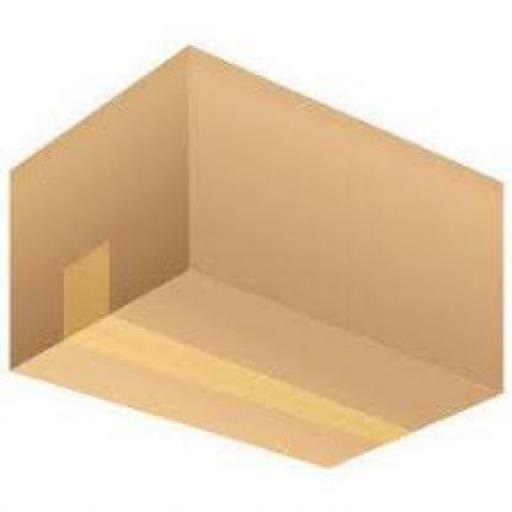cardboard: (7, 50, 503, 471)
